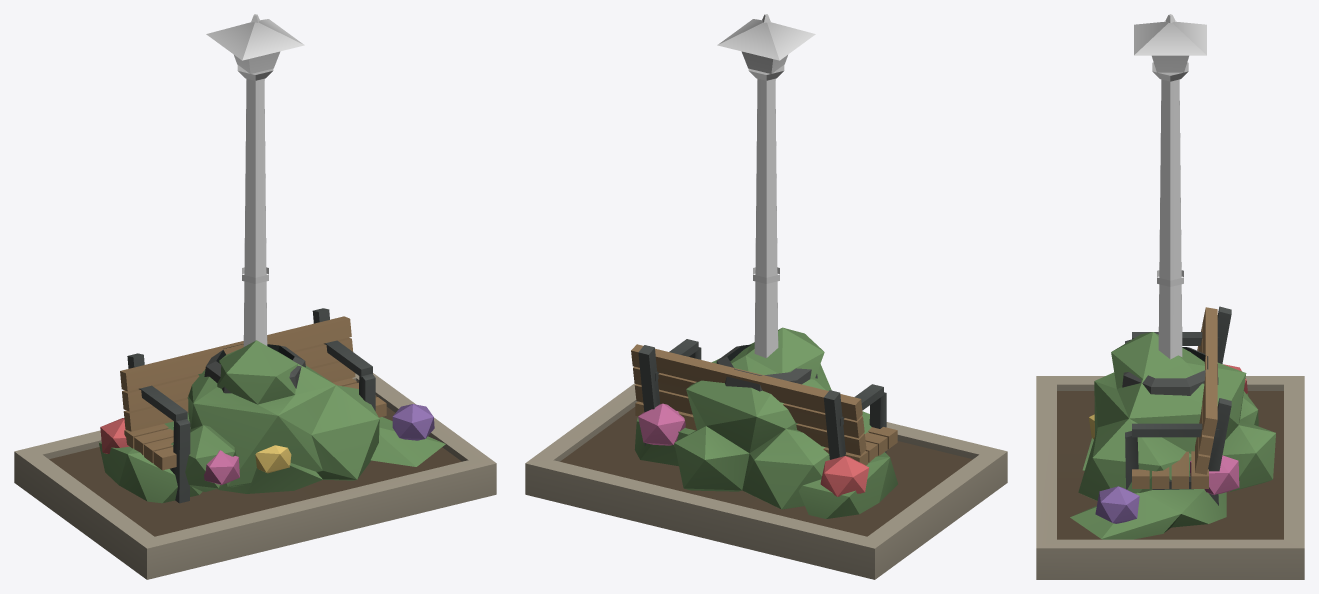
The model's file is street-furniture.glb.
The picture shows the model from 3 angles, left to right: view 1: azimuth 30°, elevation 25°; view 2: azimuth 150°, elevation 25°; view 3: azimuth 270°, elevation 25°; orthographic projection.
Parts seen in each view (by area): view 1: Bed, Bush, Bench, LampPole, Bin; view 2: Bed, Bush, Bench, LampPole, Bin; view 3: Bed, Bush, LampPole, Bench, Bin, LampHead.
Part boxes in pixels (x1,y1,x2,y2): Bed: [14, 373, 496, 579]; Bush: [164, 340, 379, 491]; Bench: [120, 308, 386, 503]; LampPole: [206, 14, 304, 346]; Bin: [204, 344, 305, 393]; Bed: [525, 383, 1007, 579]; Bush: [674, 327, 871, 509]; Bench: [631, 339, 897, 465]; LampPole: [717, 14, 815, 358]; Bin: [716, 344, 817, 391]; Bed: [1036, 364, 1304, 579]; Bush: [1078, 332, 1275, 500]; LampPole: [1134, 14, 1206, 359]; Bench: [1125, 306, 1231, 505]; Bin: [1122, 347, 1218, 395]; LampHead: [1152, 55, 1188, 72].
Bounding box in the file's own units: 2.34 × 3.05 × 1.54.
